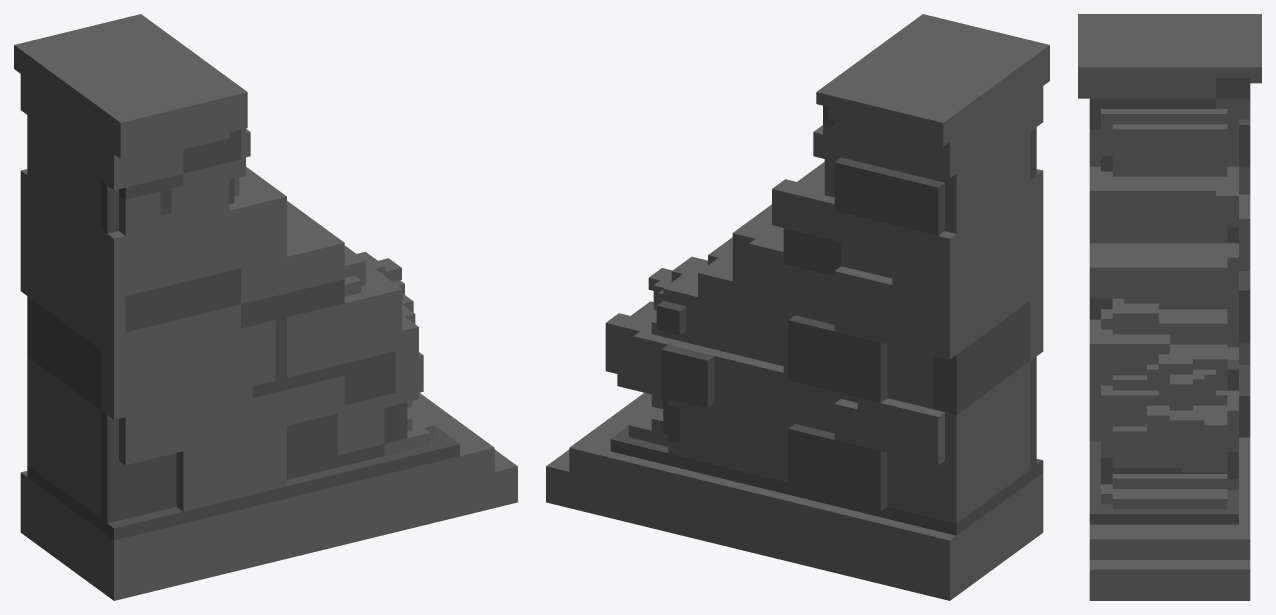
File: Tilemap_Deco_C0_P011.obj
The picture shows the model from 3 angles, left to right: view 1: azimuth 30°, elevation 25°; view 2: azimuth 150°, elevation 25°; view 3: azimuth 270°, elevation 25°; orthographic projection. The views are drawn at different scales.
Bounding box in the file's own units: 3.5 × 4 × 1.6.
Materials: 1 (1 with a texture image).
